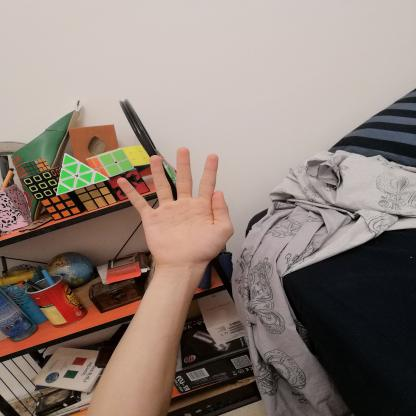SHEEN: (107, 143, 244, 275)
